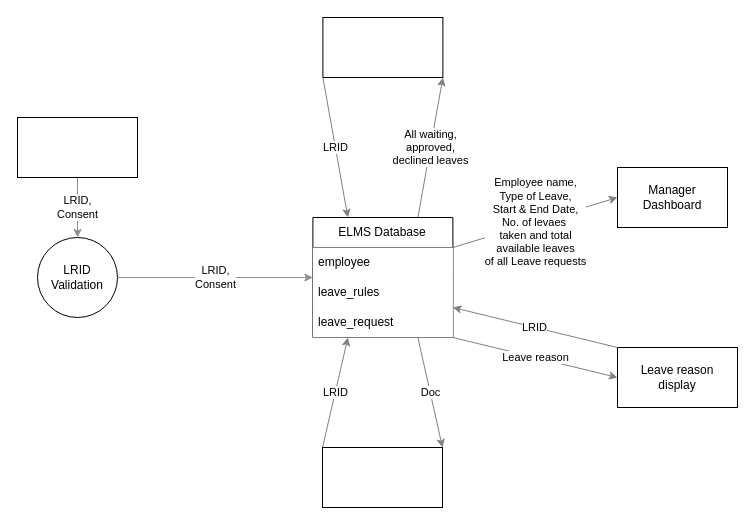
The diagram is 755 pixels wide and 525 high, and some of its shapes have lost their labels. The shapes that lost their labels are listed below. From the top down, each one's centre as x and y in pixels, then its label:
the point at 382,47: Employee Leave History
the point at 77,147: Manager Consent Input
the point at 382,477: Supporting Doc Display
